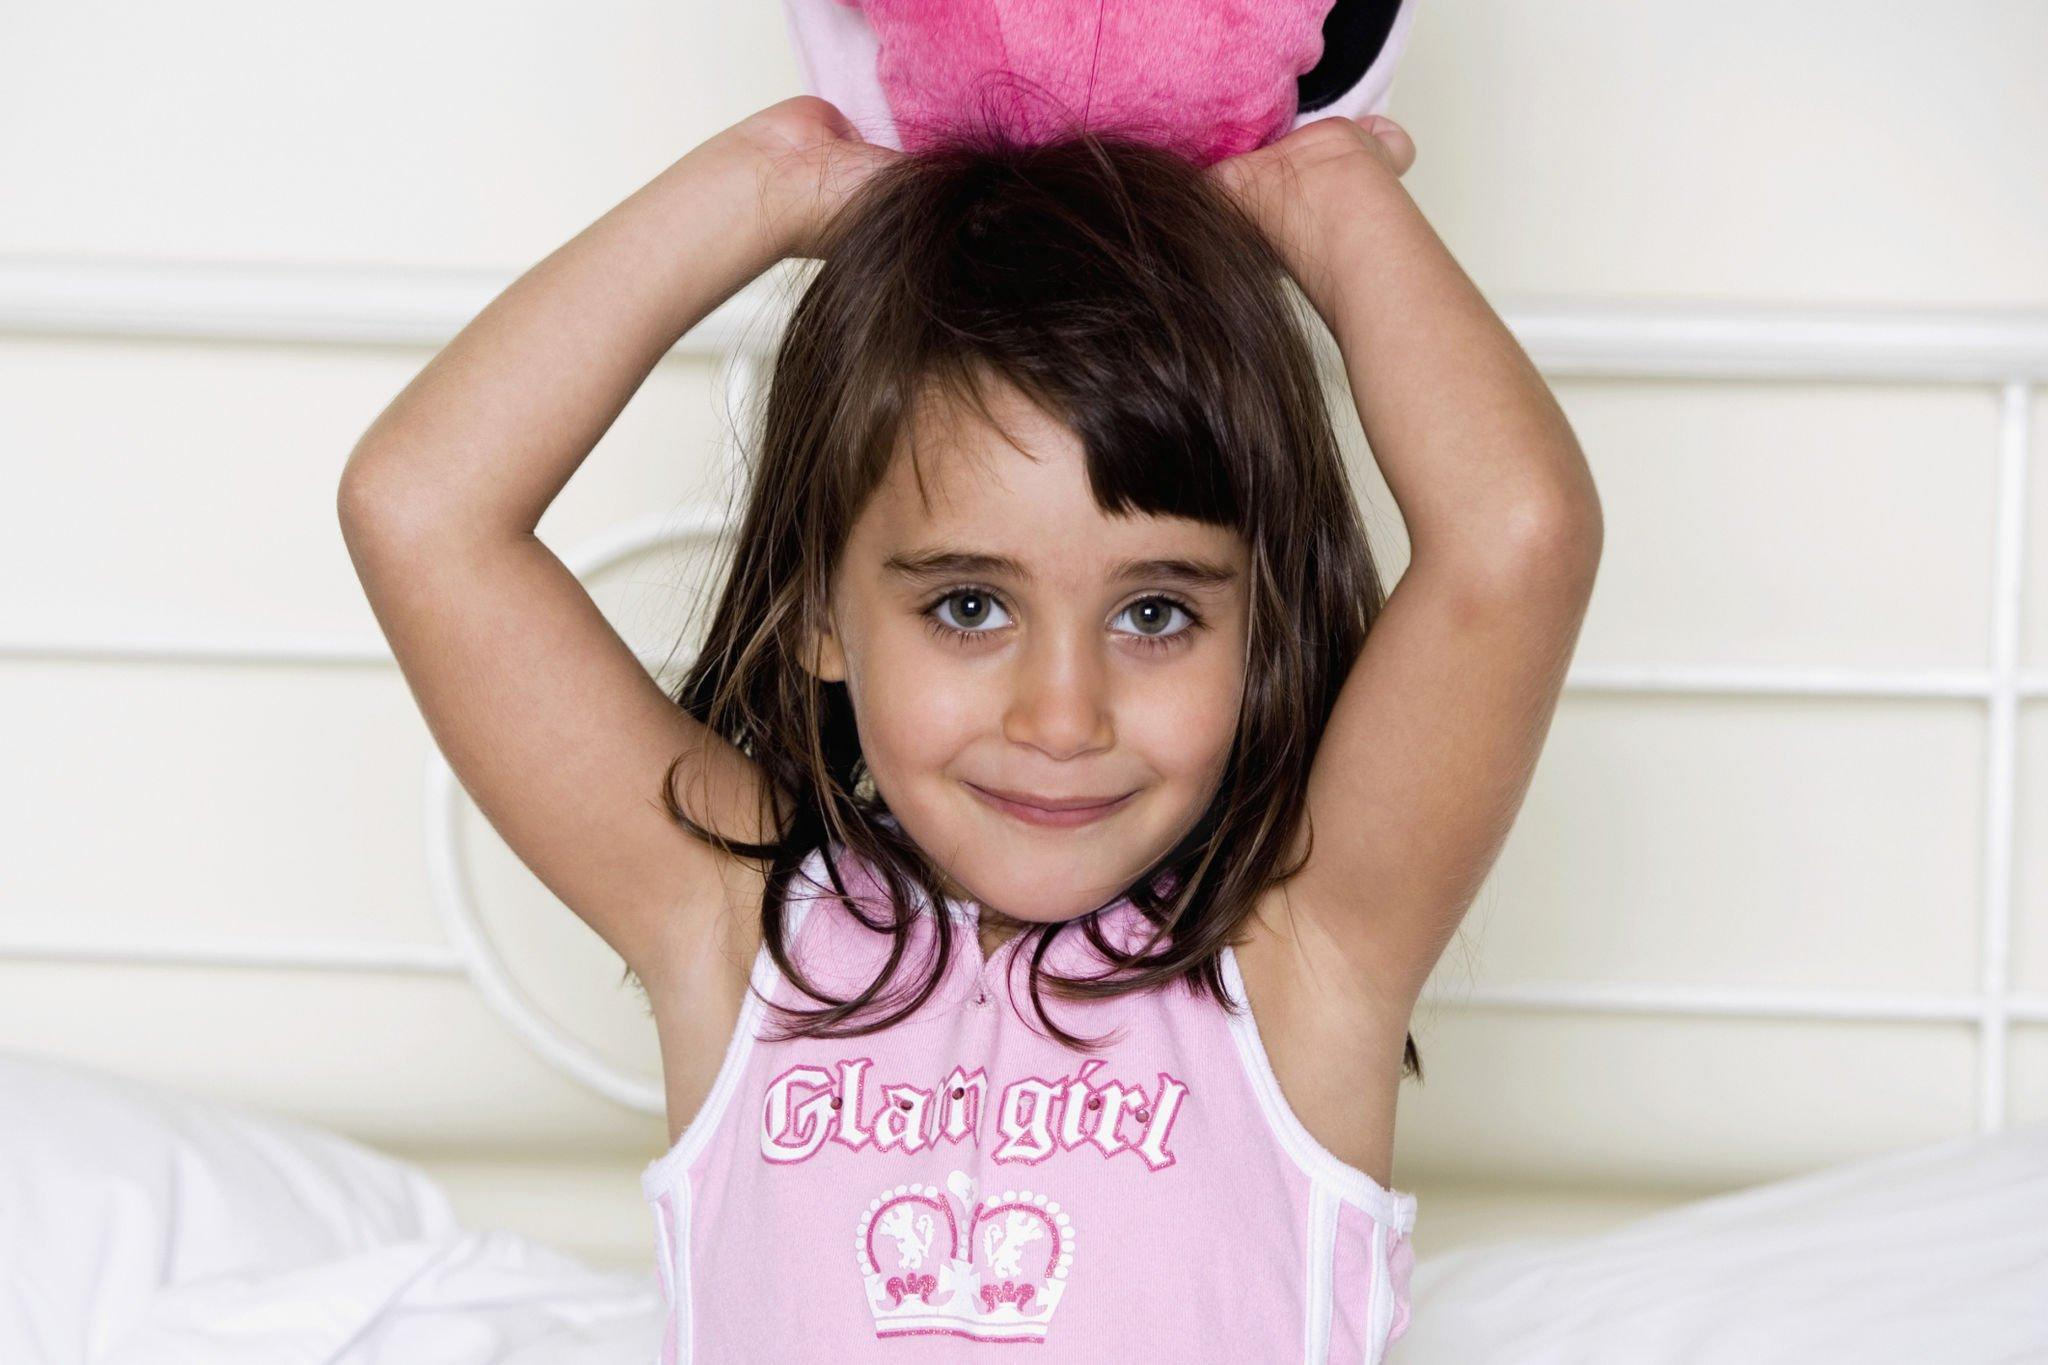Healthy: (842, 321, 1253, 906)
